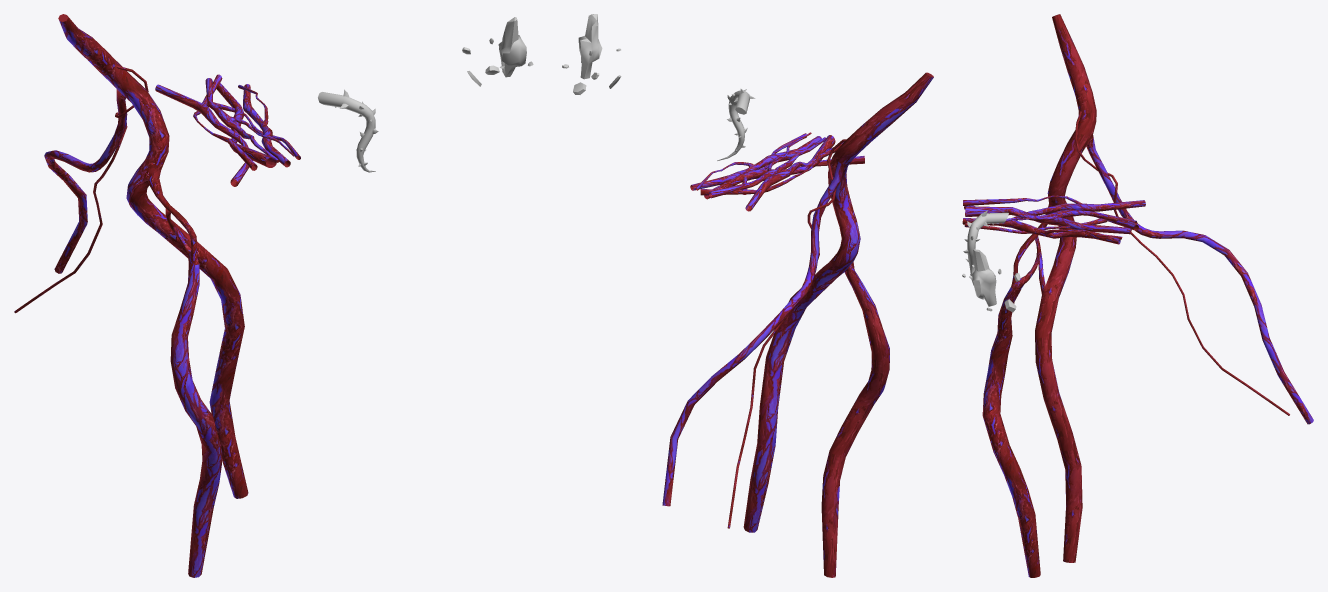
The model's file is f_1106_xueguan.FBX.
The picture shows the model from 3 angles, left to right: view 1: azimuth 30°, elevation 25°; view 2: azimuth 150°, elevation 25°; view 3: azimuth 270°, elevation 25°; orthographic projection. The views are drawn at different scales.
Visible parts, largest first — view 1: d_106_egg_04, f_106_thing_02, d_106_egg_06, Cylinder002, Object003, Object002, Cylinder004; view 2: d_106_egg_04, f_106_thing_02, Object002, Object003, d_106_egg_06, Cylinder004, Cylinder002, Cylinder001; view 3: d_106_egg_04, f_106_thing_02, Object002, Cylinder004, Object003, Cylinder002, d_106_egg_06, Cylinder001.
Boxes of the visible parts, left/top/right/bottom form: d_106_egg_04: left=14, top=14, right=248, bottom=577; f_106_thing_02: left=462, top=17, right=533, bottom=86; d_106_egg_06: left=318, top=89, right=378, bottom=172; Cylinder002: left=155, top=84, right=252, bottom=186; Object003: left=205, top=78, right=294, bottom=162; Object002: left=238, top=84, right=290, bottom=167; Cylinder004: left=216, top=83, right=276, bottom=167; d_106_egg_04: left=662, top=72, right=933, bottom=577; f_106_thing_02: left=562, top=14, right=621, bottom=94; Object002: left=690, top=136, right=821, bottom=190; Object003: left=709, top=132, right=825, bottom=198; d_106_egg_06: left=717, top=89, right=755, bottom=160; Cylinder004: left=704, top=135, right=835, bottom=199; Cylinder002: left=745, top=156, right=864, bottom=211; Cylinder001: left=700, top=142, right=843, bottom=195; d_106_egg_04: left=982, top=14, right=1313, bottom=577; f_106_thing_02: left=962, top=249, right=1020, bottom=312; Object002: left=962, top=218, right=1122, bottom=244; Cylinder004: left=965, top=206, right=1131, bottom=234; Object003: left=965, top=209, right=1137, bottom=224; Cylinder002: left=964, top=200, right=1145, bottom=220; d_106_egg_06: left=963, top=210, right=1008, bottom=285; Cylinder001: left=963, top=195, right=1138, bottom=230.
Bounding box in the file's own units: 4962 × 6298 × 3925.
